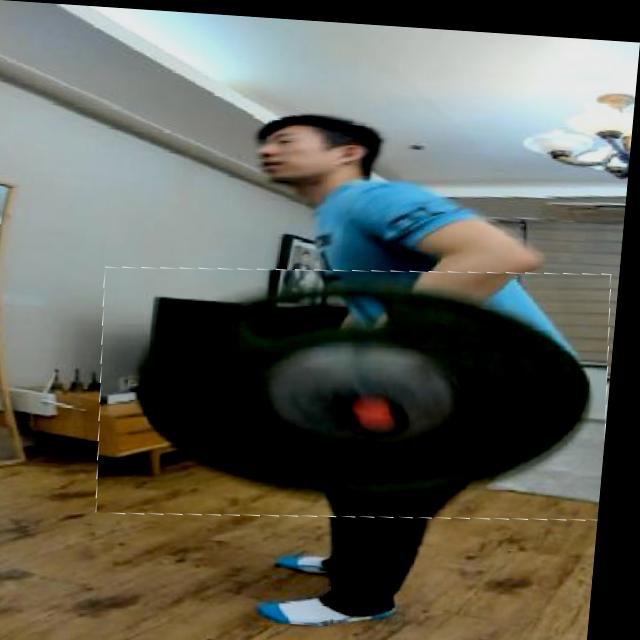barbell: (97, 246, 624, 531)
